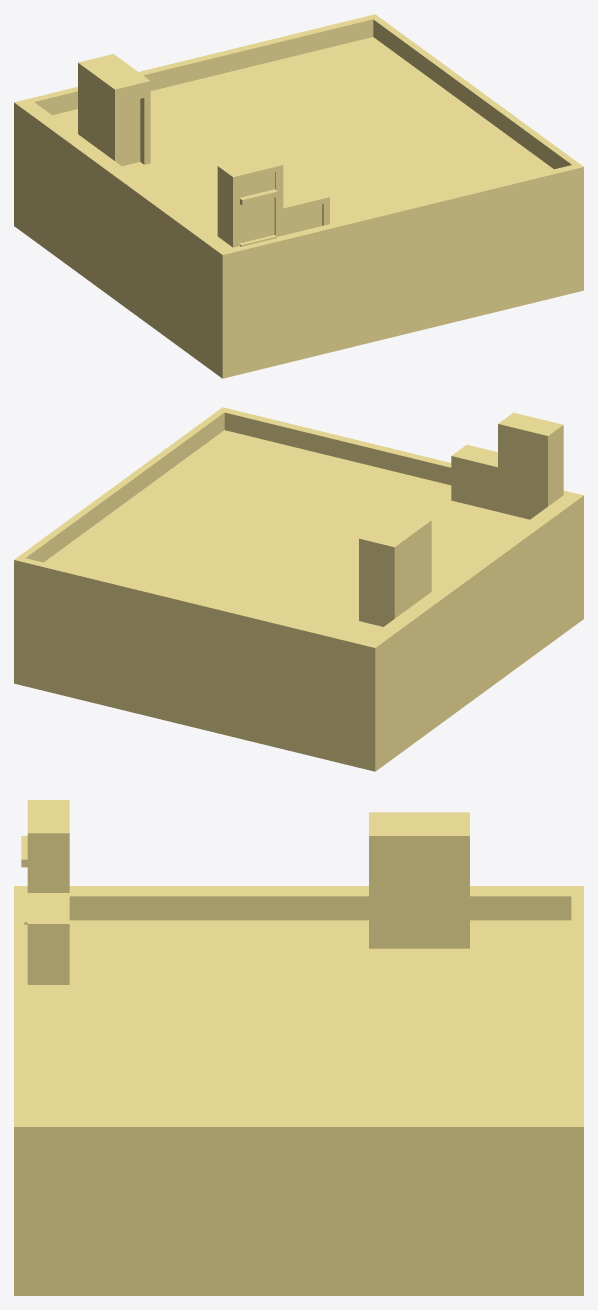
Rendered from Msh_Stage_1_Greybox.fbx.
3 views of the same model, one above another, from view 1: azimuth 30°, elevation 25°; view 2: azimuth 150°, elevation 25°; view 3: azimuth 270°, elevation 25° (orthographic). The views are drawn at different scales.
Parts seen in each view (by area): view 1: Cube; view 2: Cube; view 3: Cube.
Boxes of the visible parts, x1=… form: Cube: x1=14, y1=14, x2=583, y2=378; Cube: x1=14, y1=407, x2=583, y2=771; Cube: x1=14, y1=800, x2=583, y2=1295.
Size of the model in its own units: 2489 by 1278 by 2489.
